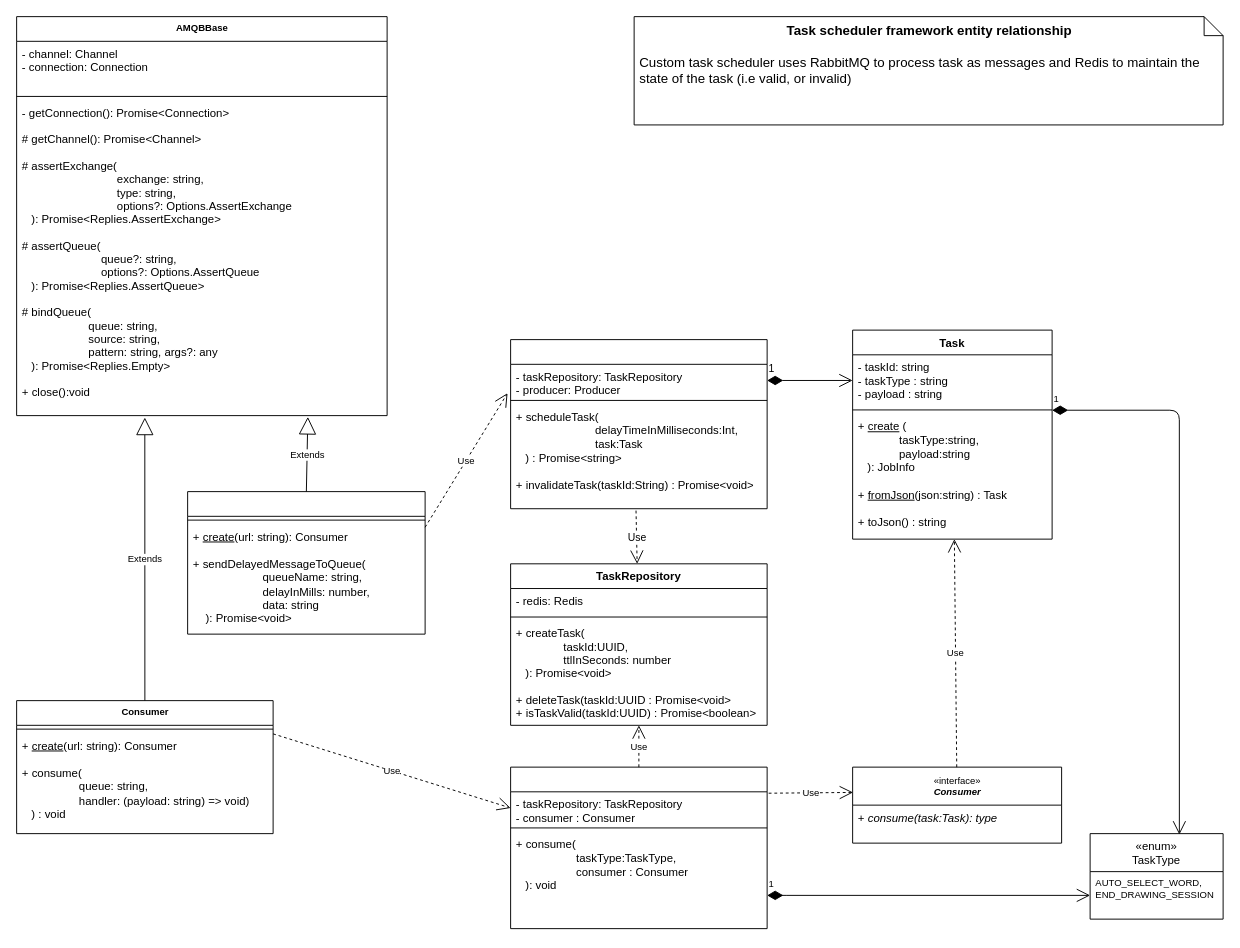
Image size: 1240x948. Some labels were removed from this diagram. The shapes that lost their labels are listed below. From the top down, each one's box as (x1, y1, x2, y2) in pixels, then its label:
(510, 339, 767, 509): TaskScheduler
(187, 491, 425, 634): Producer
(510, 766, 767, 929): TaskConsumer
